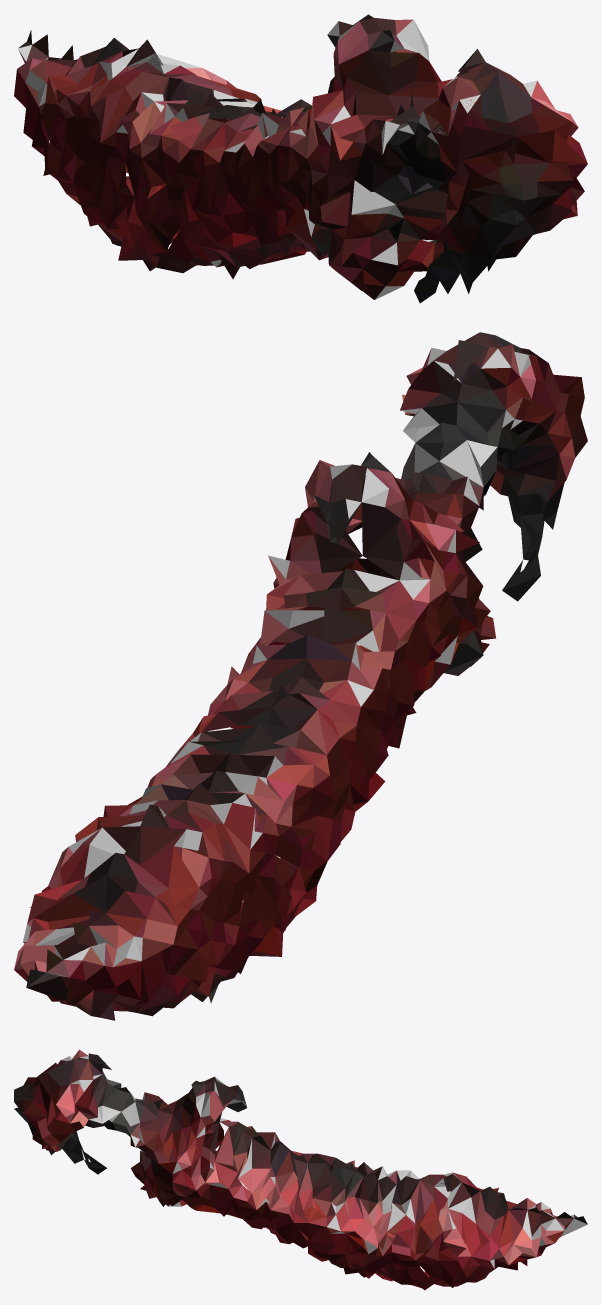
Rendered from B02_3_crimson_crystal_scimitar.obj.
3 renders of one model, top to bottom at view 1: azimuth 30°, elevation 25°; view 2: azimuth 150°, elevation 25°; view 3: azimuth 270°, elevation 25°, orthographic. The views are drawn at different scales.
Visible parts, largest first — view 1: B02_3_crimson_crystal_scimitar; view 2: B02_3_crimson_crystal_scimitar; view 3: B02_3_crimson_crystal_scimitar.
Boxes of the visible parts, <box> form: B02_3_crimson_crystal_scimitar: <box>14,14,587,303</box>; B02_3_crimson_crystal_scimitar: <box>14,332,587,1020</box>; B02_3_crimson_crystal_scimitar: <box>14,1049,587,1290</box>.
Size of the model in its own units: 27 by 55 by 123.
